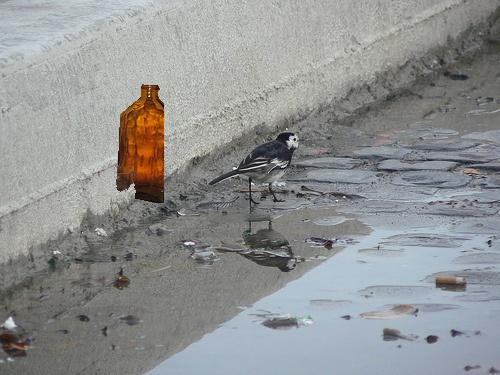tampered: (117, 85, 164, 203)
